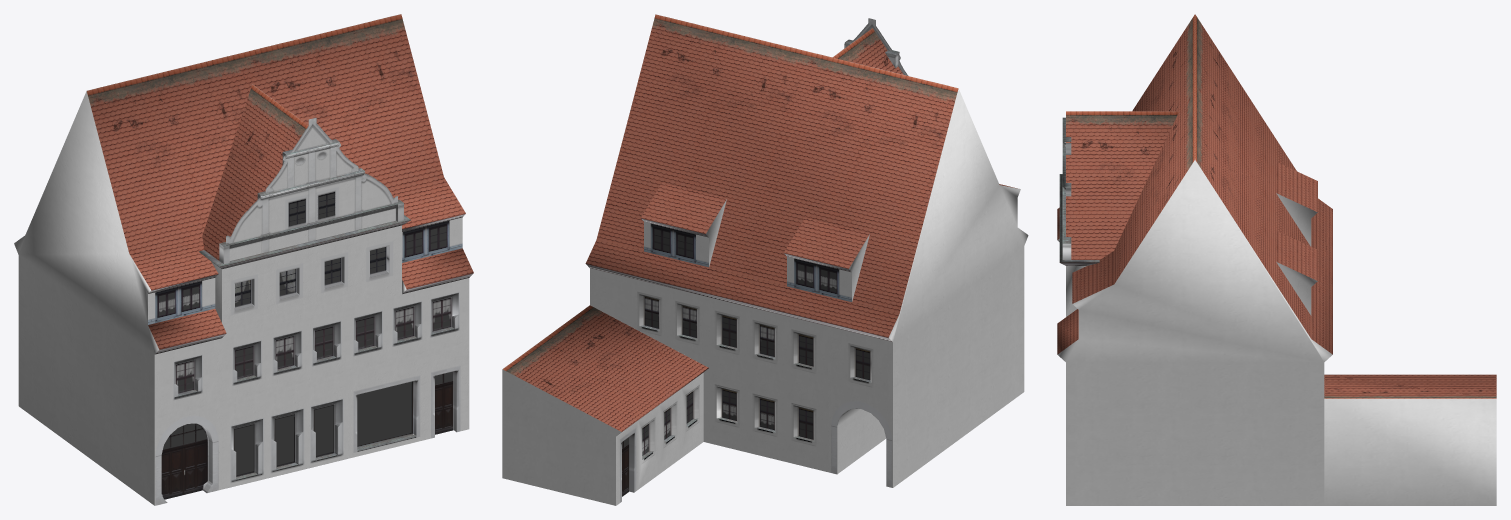
3 renders of one model, left to right at view 1: azimuth 30°, elevation 25°; view 2: azimuth 150°, elevation 25°; view 3: azimuth 270°, elevation 25°, orthographic. The views are drawn at different scales.
Visible parts, largest first — view 1: SketchUp.002_Material_0; view 2: SketchUp.002_Material_0; view 3: SketchUp.002_Material_0.
Part boxes in pixels (x1,y1,x2,y2): SketchUp.002_Material_0: (14, 14, 473, 505); SketchUp.002_Material_0: (502, 14, 1028, 505); SketchUp.002_Material_0: (1057, 14, 1496, 505).
Size of the model in its own units: 1600 by 1775 by 2040.
Materials: 1 (1 with a texture image).
